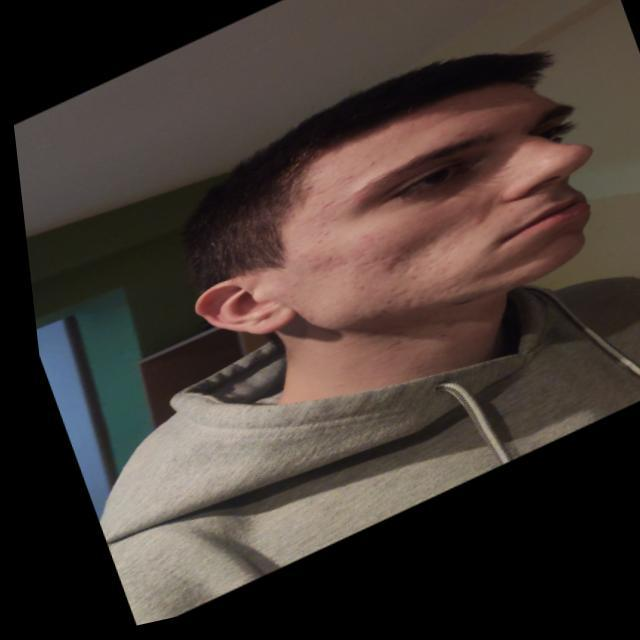Nonhelmet: (179, 45, 597, 345)
